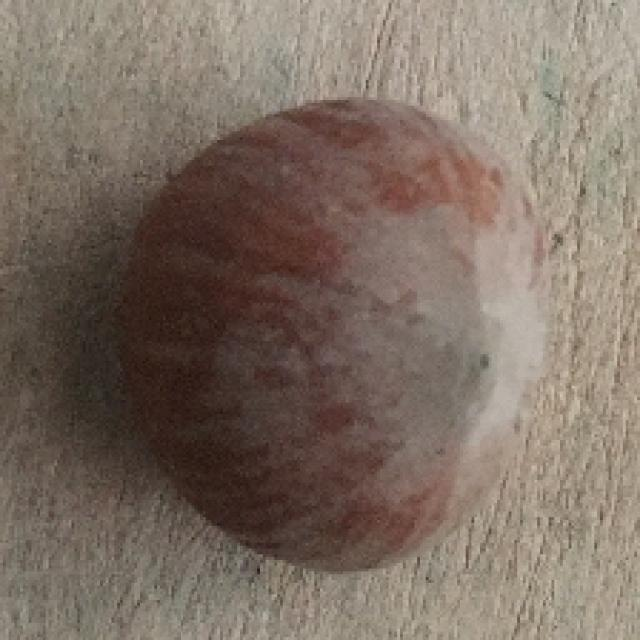QualityHazelnut: (109, 86, 554, 575)
